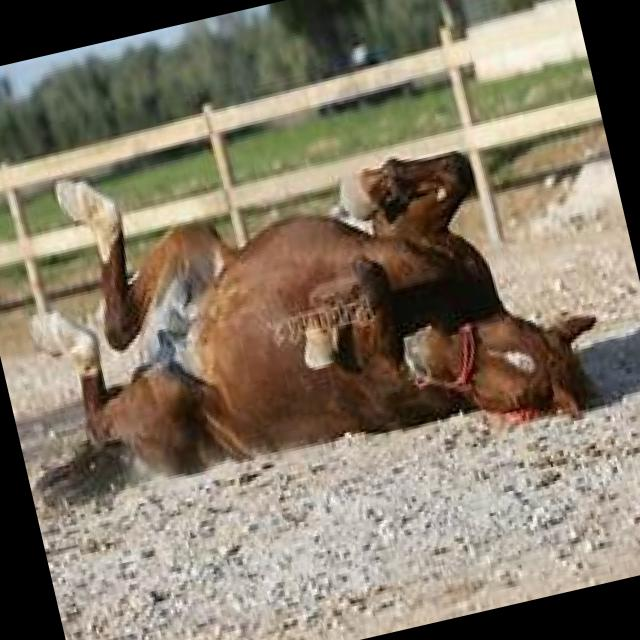horse: (8, 73, 606, 528)
